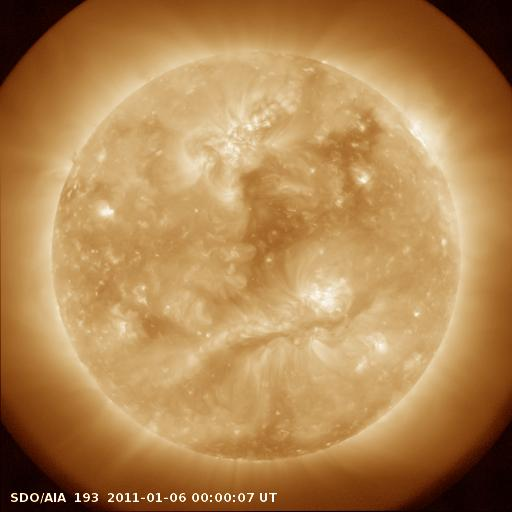coronal_hole: (177, 408, 385, 465), (229, 162, 307, 290), (313, 97, 383, 215)
